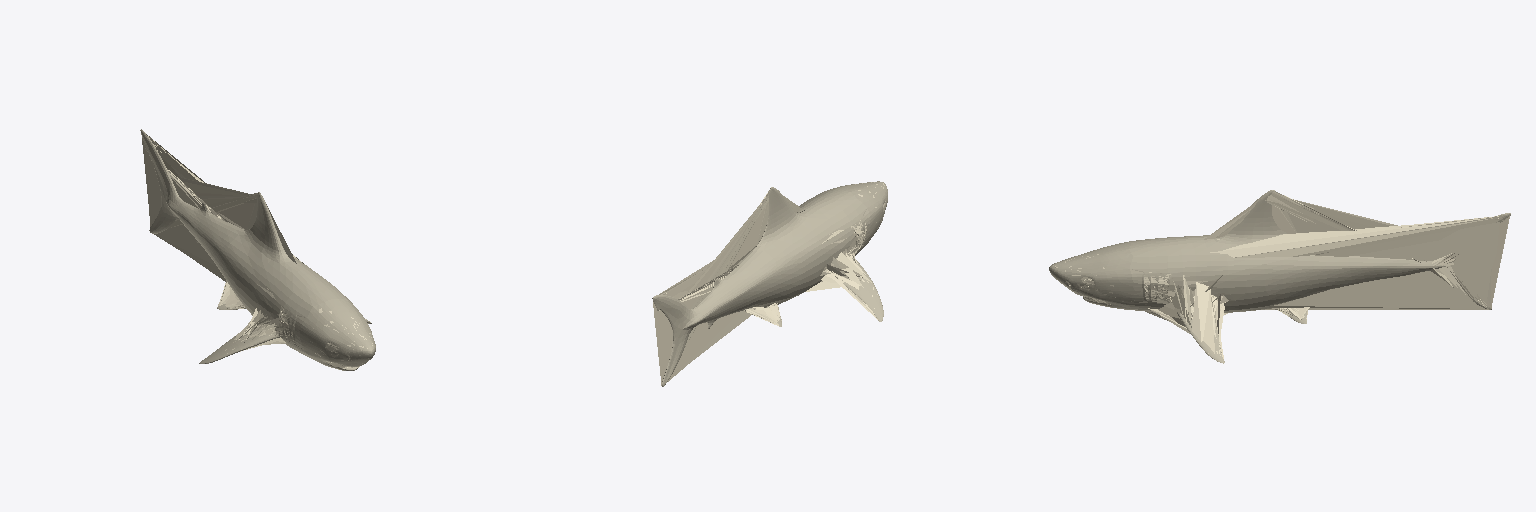
File: wshark.obj
The picture shows the model from 3 angles: view 1: azimuth 30°, elevation 25°; view 2: azimuth 150°, elevation 25°; view 3: azimuth 270°, elevation 25°; orthographic projection.
Visible parts, largest first — view 1: WSHBODYM, WSHTOM; view 2: WSHBODYM, WSHTOM; view 3: WSHTOM, WSHBODYM.
Part boxes in pixels (x1,y1,x2,y2): WSHBODYM: (140, 129, 375, 370); WSHTOM: (142, 134, 372, 369); WSHBODYM: (652, 181, 887, 386); WSHTOM: (653, 182, 885, 385); WSHTOM: (1053, 191, 1509, 361); WSHBODYM: (1049, 190, 1510, 363).
Bounding box in the file's own units: 2770 × 2058 × 6512.